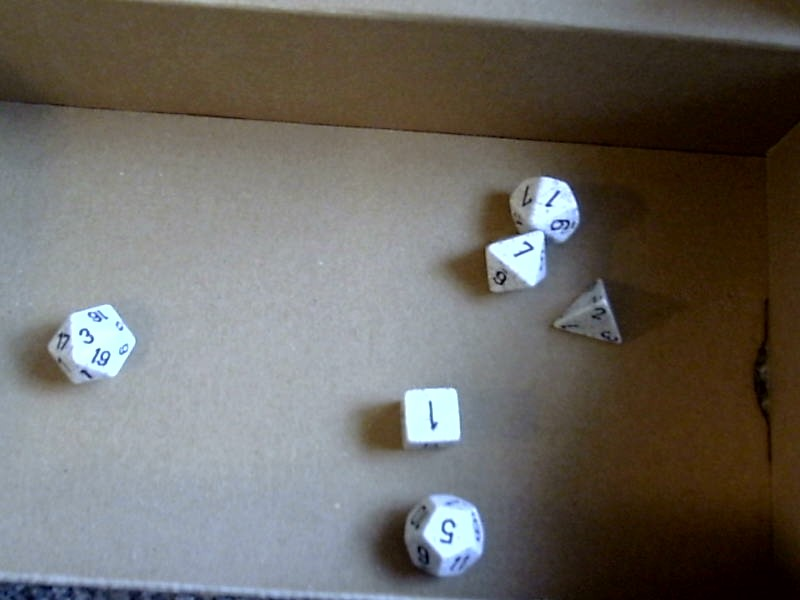d10 1: (511, 167, 601, 238)
d12 5: (399, 490, 490, 582)
d20 3: (42, 300, 140, 390)
d4 2: (550, 276, 623, 353)
d6 1: (392, 382, 468, 458)
d8 7: (466, 230, 547, 306)
